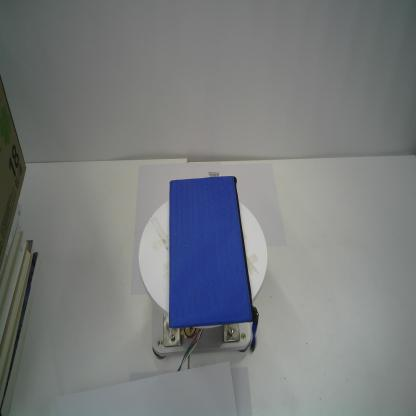Stationery: (165, 175, 260, 358)
